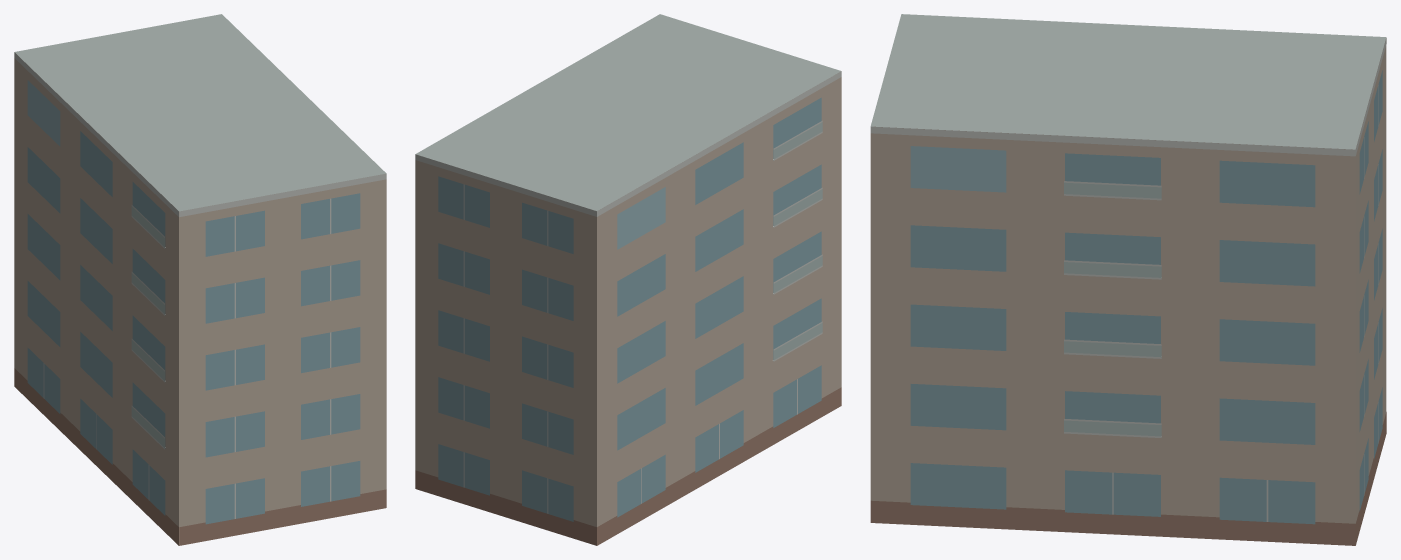
The model's file is survey-upis-32567413.glb.
3 renders of one model, left to right at view 1: azimuth 30°, elevation 25°; view 2: azimuth 150°, elevation 25°; view 3: azimuth 270°, elevation 25°, orthographic. The views are drawn at different scales.
Visible parts, largest first — view 1: survey-upis-32567413.tmp; view 2: survey-upis-32567413.tmp; view 3: survey-upis-32567413.tmp.
Boxes of the visible parts, x1=… form: survey-upis-32567413.tmp: x1=14, y1=14, x2=386, y2=545; survey-upis-32567413.tmp: x1=415, y1=14, x2=841, y2=545; survey-upis-32567413.tmp: x1=870, y1=14, x2=1386, y2=545.
Bounding box in the file's own units: 10.43 × 14.2 × 16.77.
